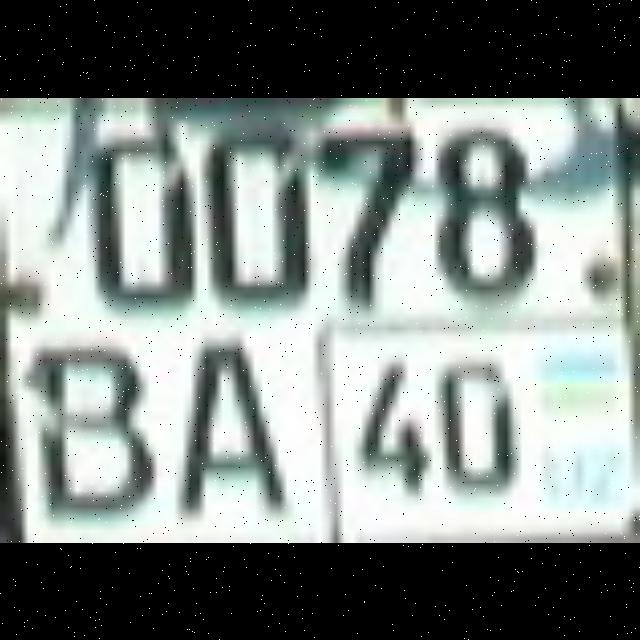0: (194, 121, 300, 291), (90, 129, 186, 299), (430, 348, 510, 478)
4: (356, 348, 422, 486)
7: (316, 121, 406, 291)
8: (429, 121, 526, 291)
A: (178, 332, 276, 510)
B: (32, 332, 146, 510)
